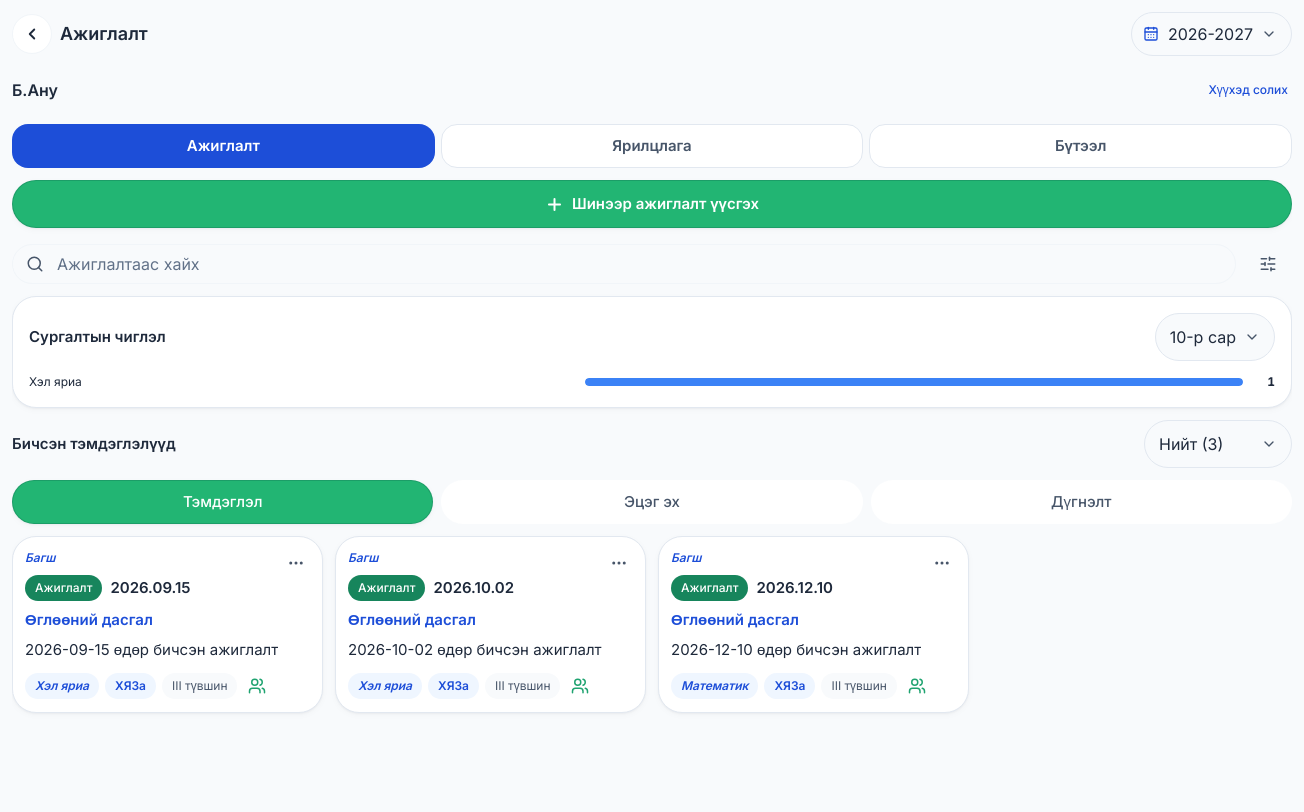
it: the record hub › breaks the records down over the terms that exist
This screenshot has width=1304, height=812.
Click the dropdown named "Тэмдэглэлийн хугацаа": (1218, 444) [1144,420,1292,468]
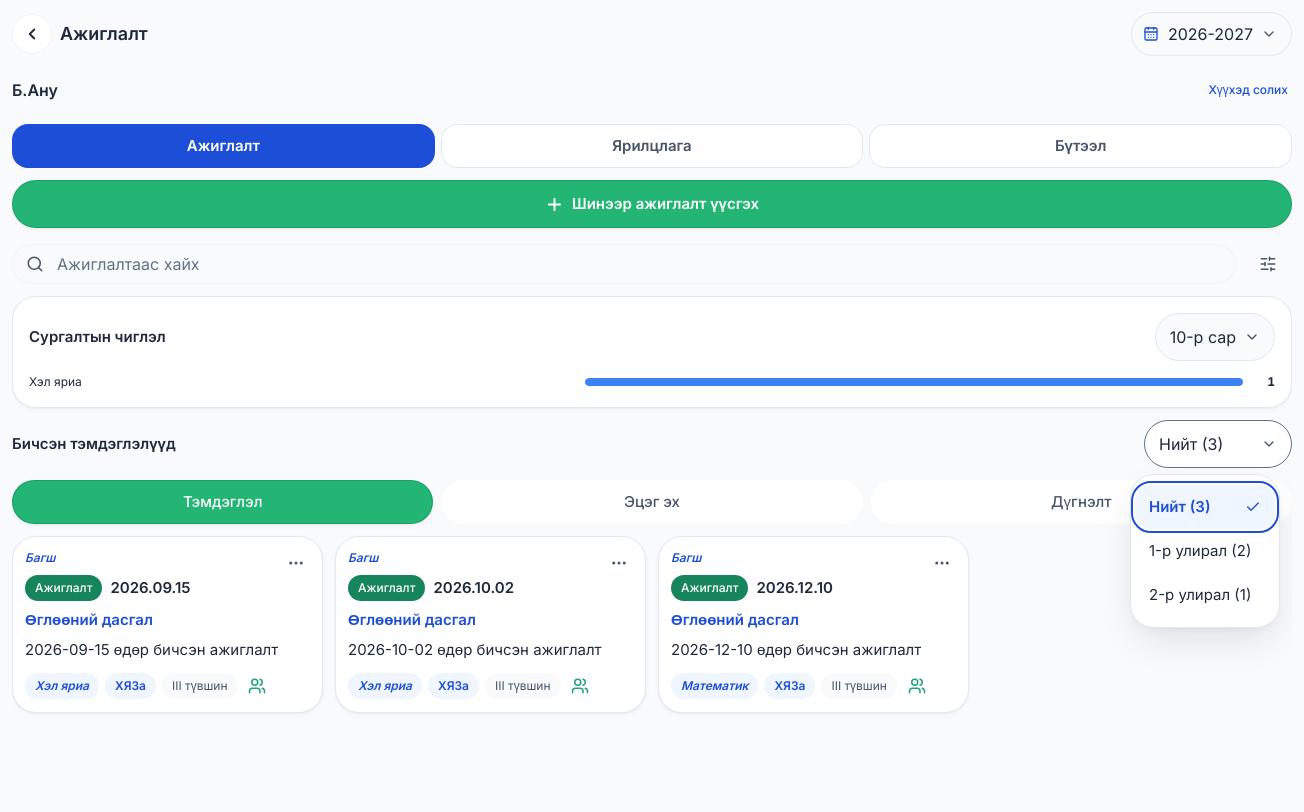
Now the number of options is 3, box [1135,485,1275,529]; [1149,541,1251,560]; [1149,585,1251,604]
Now the option "Нийт (3)" is shown, box [1135,485,1275,529]
Now the option "1-р улирал (2)" is shown, box [1149,541,1251,560]
